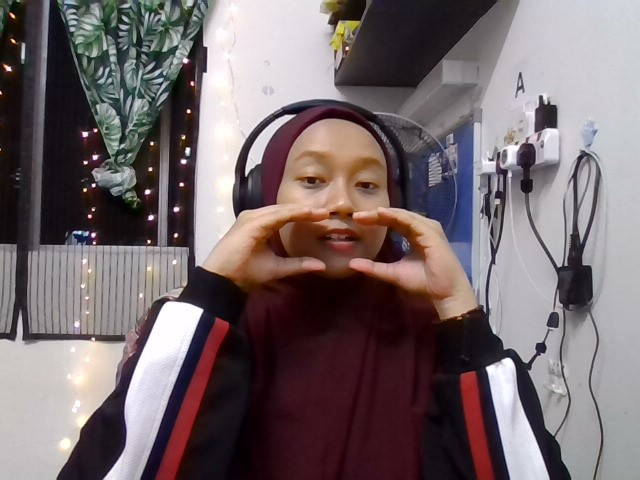Burger: (201, 202, 475, 294)
